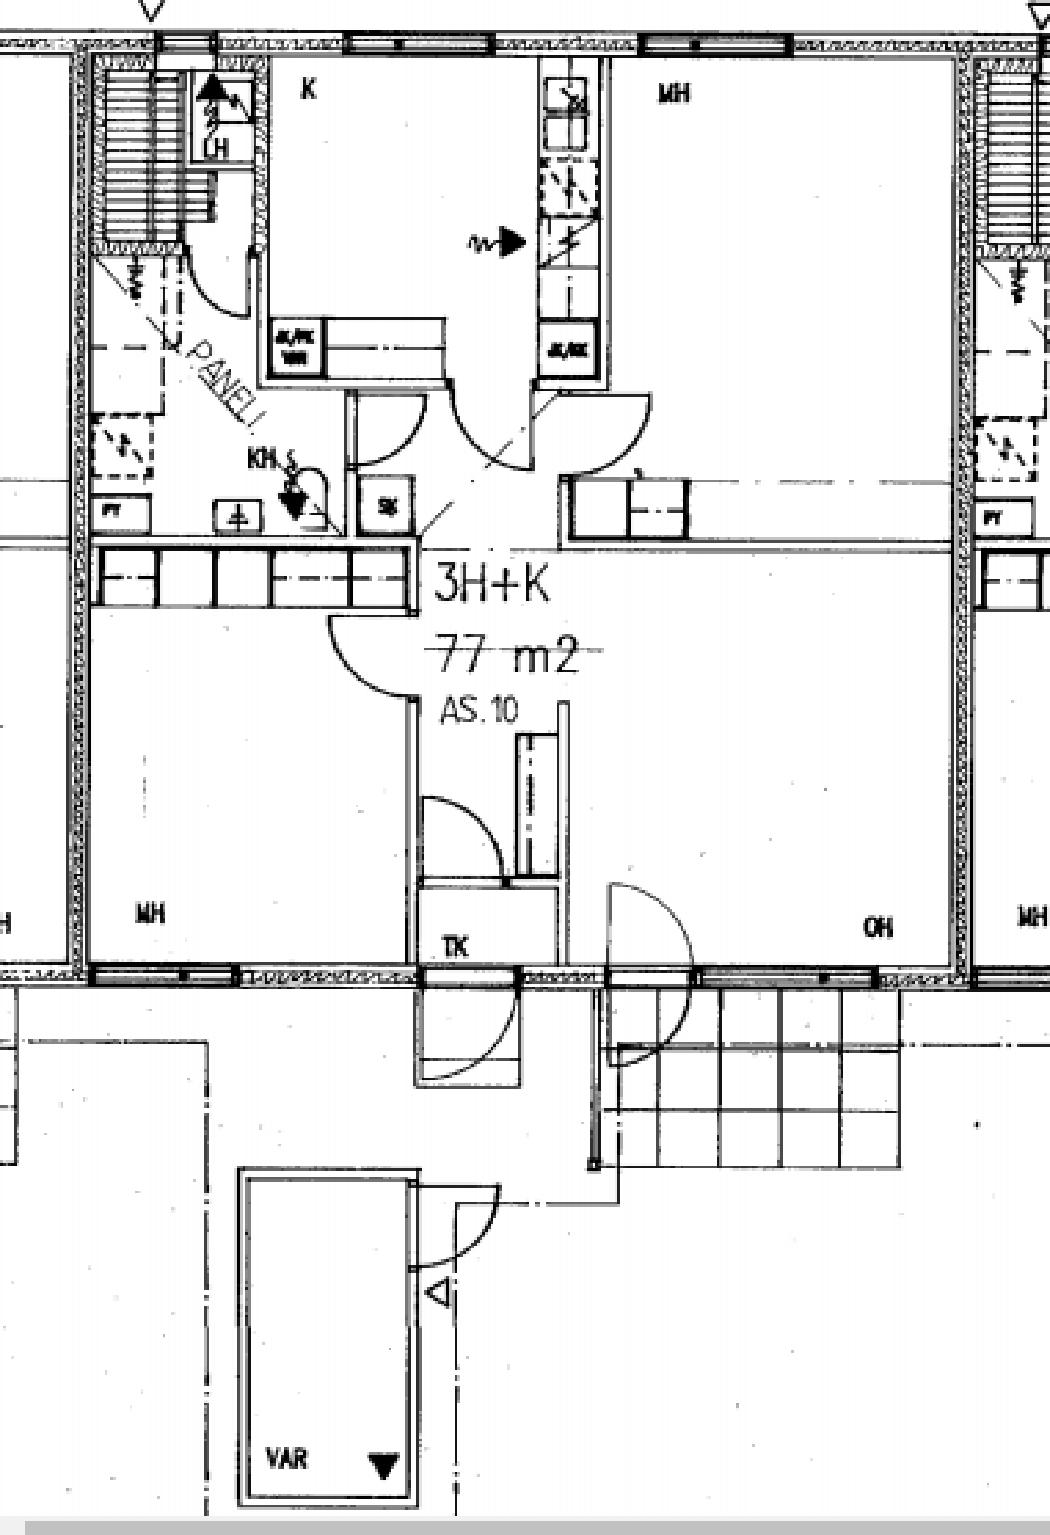door: (601, 879, 693, 1065), (419, 970, 521, 1095), (447, 380, 534, 477), (547, 393, 644, 481), (414, 795, 503, 886), (323, 611, 416, 698), (406, 1189, 503, 1269), (345, 395, 427, 464), (183, 246, 257, 318)
window: (705, 965, 877, 993), (91, 959, 237, 990), (344, 24, 490, 54), (640, 33, 785, 57), (152, 26, 219, 57)
zone: (345, 52, 952, 537), (418, 546, 947, 960), (90, 539, 405, 956), (103, 47, 341, 531), (267, 54, 590, 374), (239, 1170, 406, 1500)
